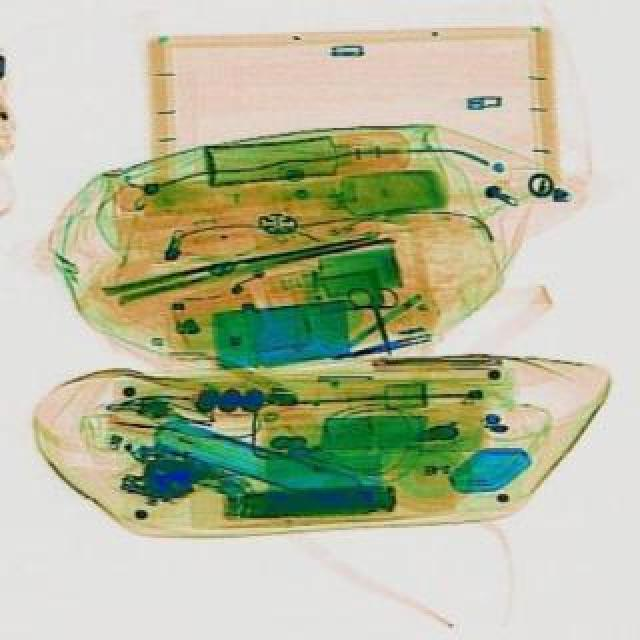pliers: (350, 278, 418, 362)
